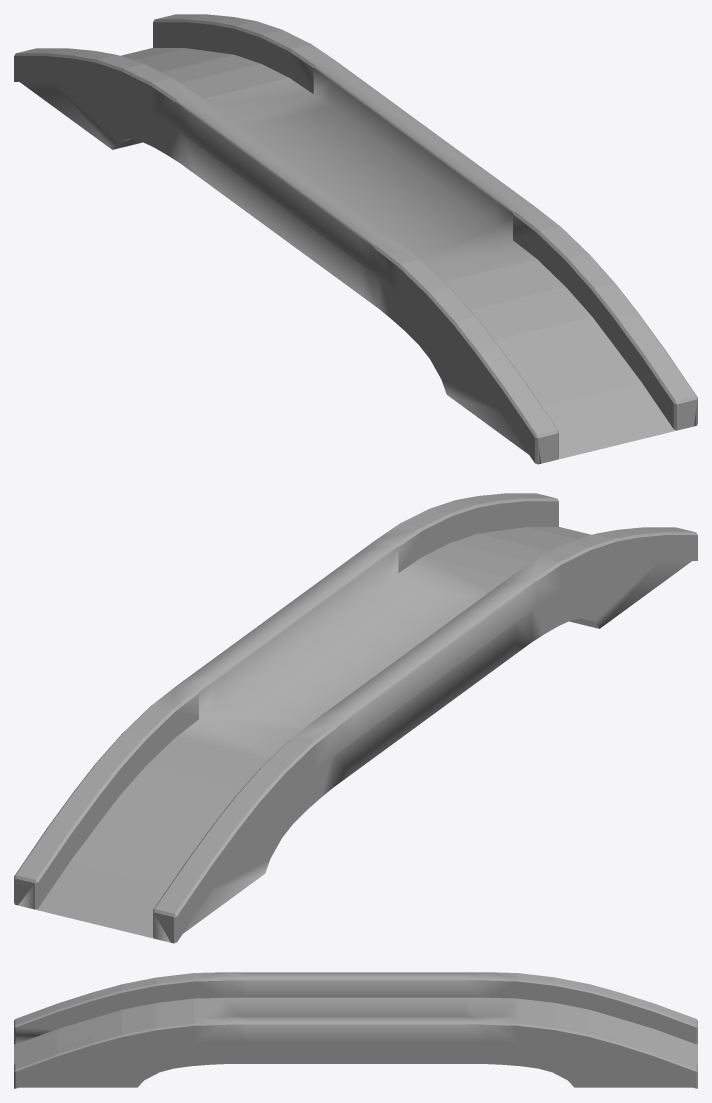
File: stonebridge.fbx
The picture shows the model from 3 angles, top to bottom: view 1: azimuth 30°, elevation 25°; view 2: azimuth 150°, elevation 25°; view 3: azimuth 270°, elevation 25°; orthographic projection. The views are drawn at different scales.
Visible parts, largest first — view 1: bridge:bridge:polySurface4; view 2: bridge:bridge:polySurface4; view 3: bridge:bridge:polySurface4.
Part boxes in pixels (left/top/right/bottom): bridge:bridge:polySurface4: left=14, top=14, right=697, bottom=464; bridge:bridge:polySurface4: left=14, top=493, right=697, bottom=943; bridge:bridge:polySurface4: left=14, top=972, right=697, bottom=1088.
Size of the model in its own units: 96.88 by 57.09 by 538.
Materials: 1 (1 with a texture image).
